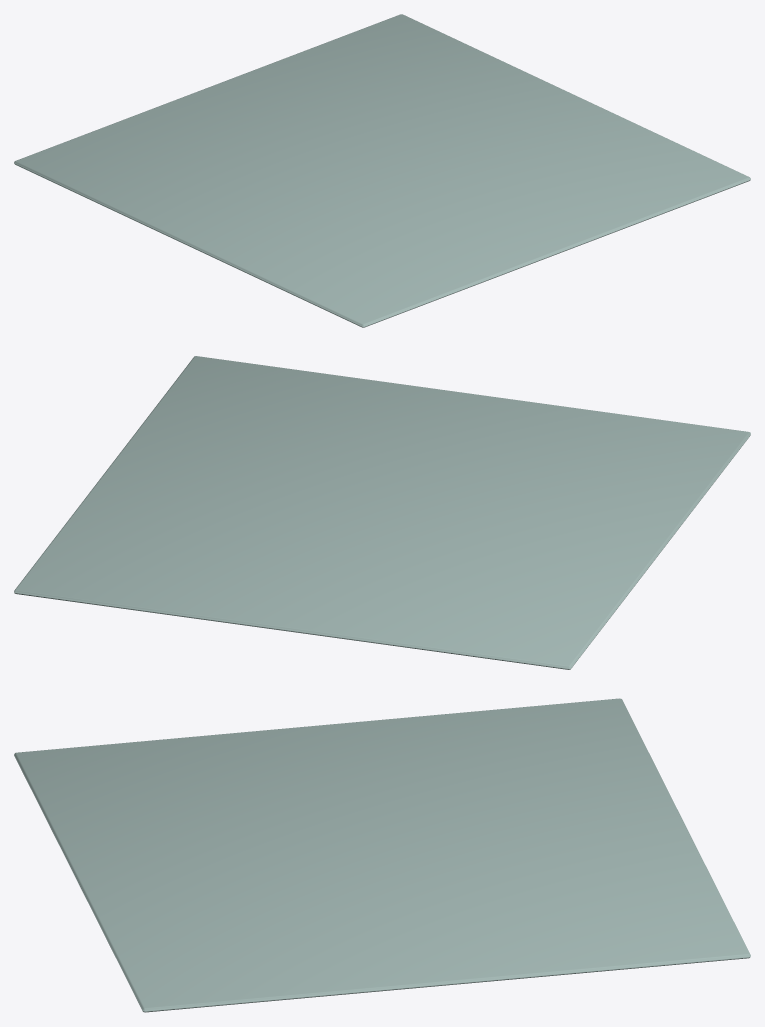
The model's file is Modular_Rug.fbx.
3 views of the same model, one above another, from view 1: azimuth 30°, elevation 25°; view 2: azimuth 150°, elevation 25°; view 3: azimuth 270°, elevation 25° (orthographic). The views are drawn at different scales.
Parts seen in each view (by area): view 1: Modular_Rug; view 2: Modular_Rug; view 3: Modular_Rug.
Part boxes in pixels (x1,y1,x2,y2): Modular_Rug: (14,14,750,327); Modular_Rug: (14,356,750,669); Modular_Rug: (14,698,750,1012).
Bounding box in the file's own units: 237 × 1.6 × 237.
